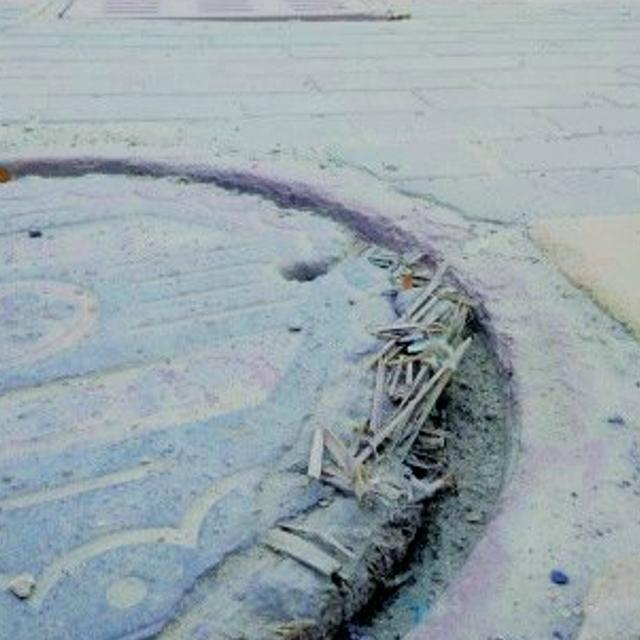circle: (0, 124, 608, 640)
